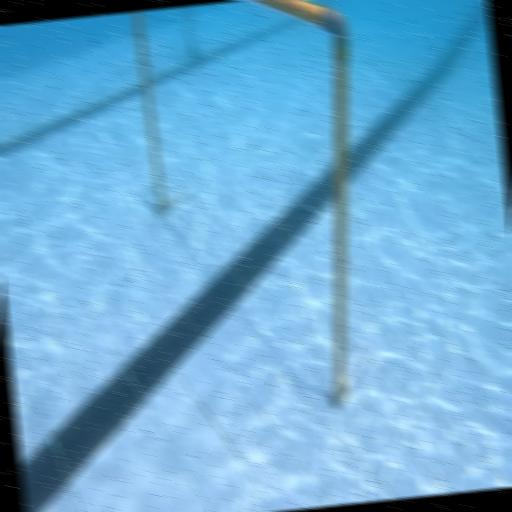gate: (132, 0, 388, 427)
